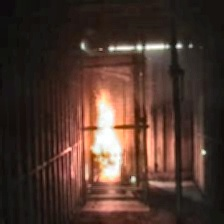fire: (82, 91, 126, 186)
